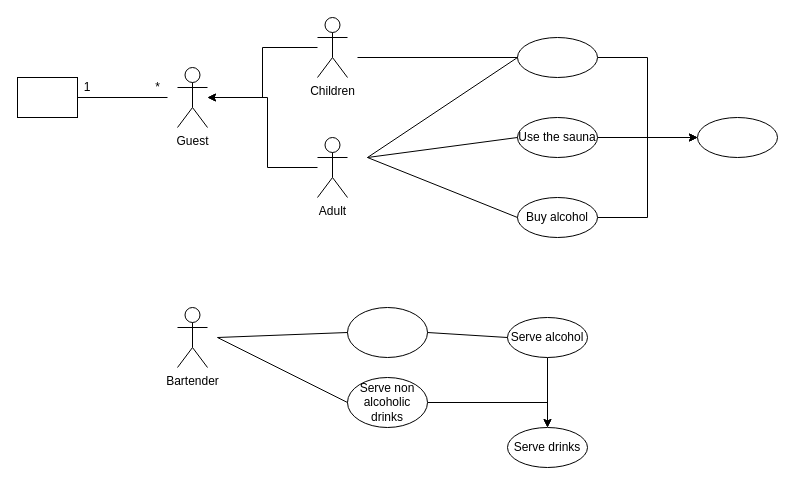
Image size: 795x485. Some labels were removed from this diagram. Here are the shapes that lost their labels. From the top down, the box of each, then its label:
(516, 36, 598, 78): No age limit services
(16, 76, 78, 118): Bill
(696, 116, 778, 158): Use the services
(346, 306, 428, 358): Check if cutomer is adult
